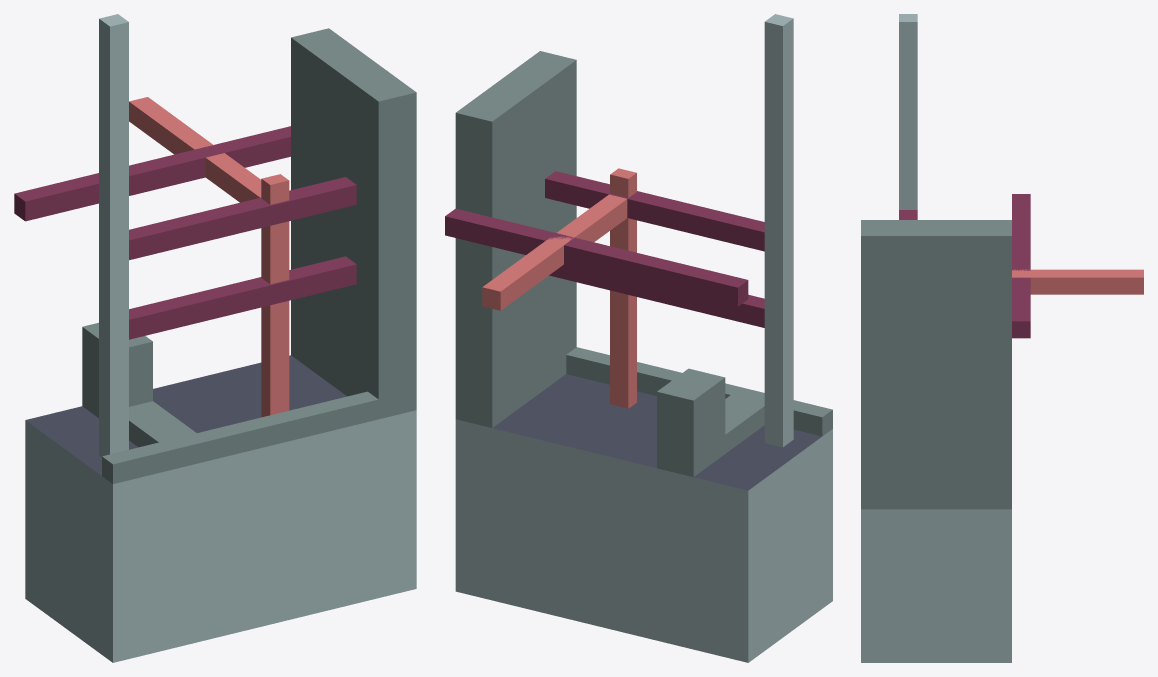
Rendered from Skeleton1.002.fbx.
The picture shows the model from 3 angles, left to right: view 1: azimuth 30°, elevation 25°; view 2: azimuth 150°, elevation 25°; view 3: azimuth 270°, elevation 25°; orthographic projection. The views are drawn at different scales.
Visible parts, largest first — view 1: Skeleton1.002; view 2: Skeleton1.002; view 3: Skeleton1.002.
Part boxes in pixels (x1,y1,x2,y2): Skeleton1.002: (14,14,416,662); Skeleton1.002: (445,14,832,662); Skeleton1.002: (861,14,1143,662).
Size of the model in its own units: 1600 by 3100 by 1500.
